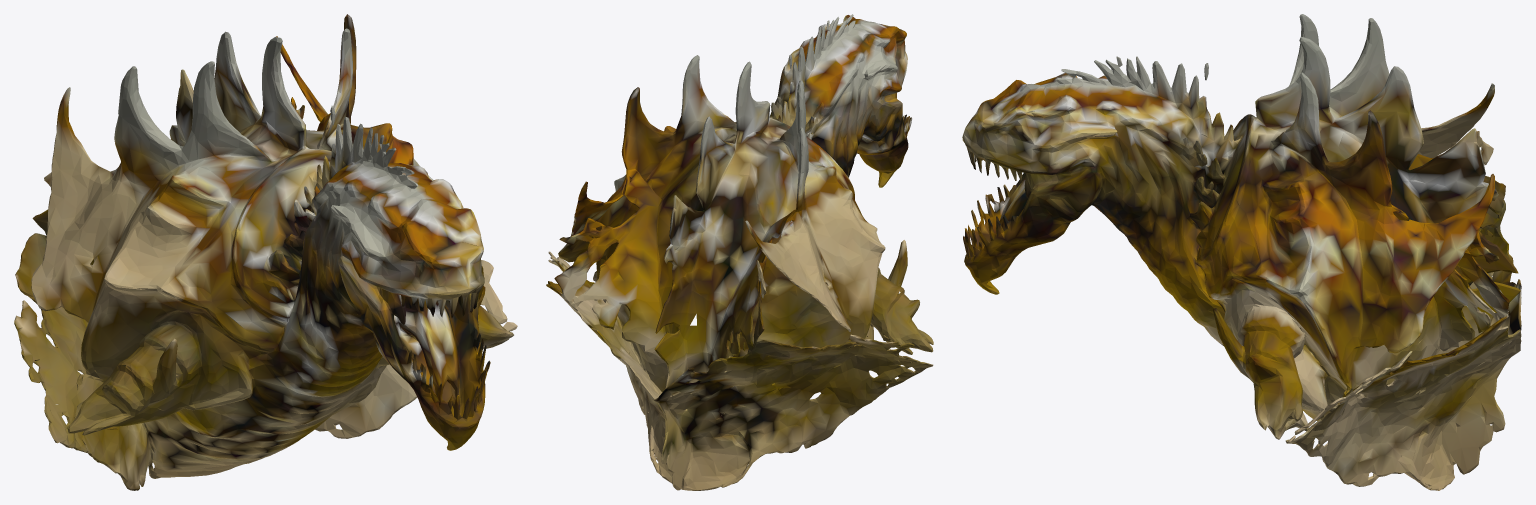
The model's file is vampire.glb.
The picture shows the model from 3 angles, left to right: view 1: azimuth 30°, elevation 25°; view 2: azimuth 150°, elevation 25°; view 3: azimuth 270°, elevation 25°; orthographic projection. The views are drawn at different scales.
Visible parts, largest first — view 1: world; view 2: world; view 3: world.
Boxes of the visible parts, x1,y1,x2,y2 form: world: [14, 14, 517, 490]; world: [546, 14, 933, 490]; world: [962, 14, 1521, 490].
Size of the model in its own units: 0.9806 by 1 by 1.15.
